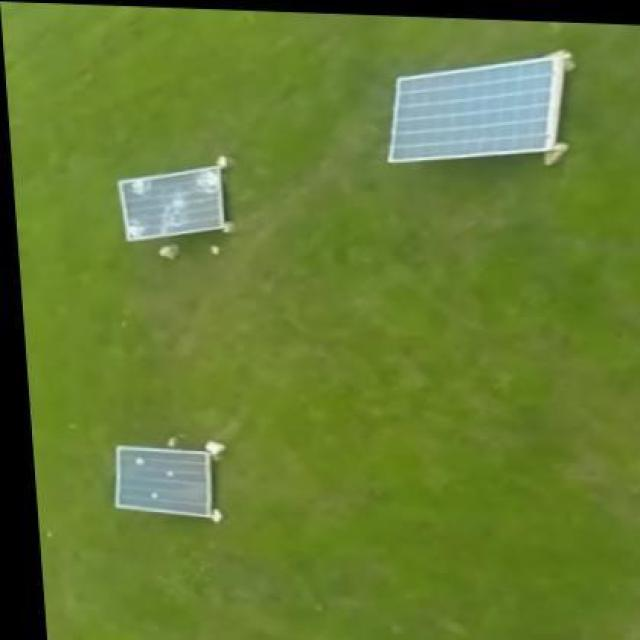cracked: (117, 160, 233, 248)
soiled: (114, 444, 221, 520)
